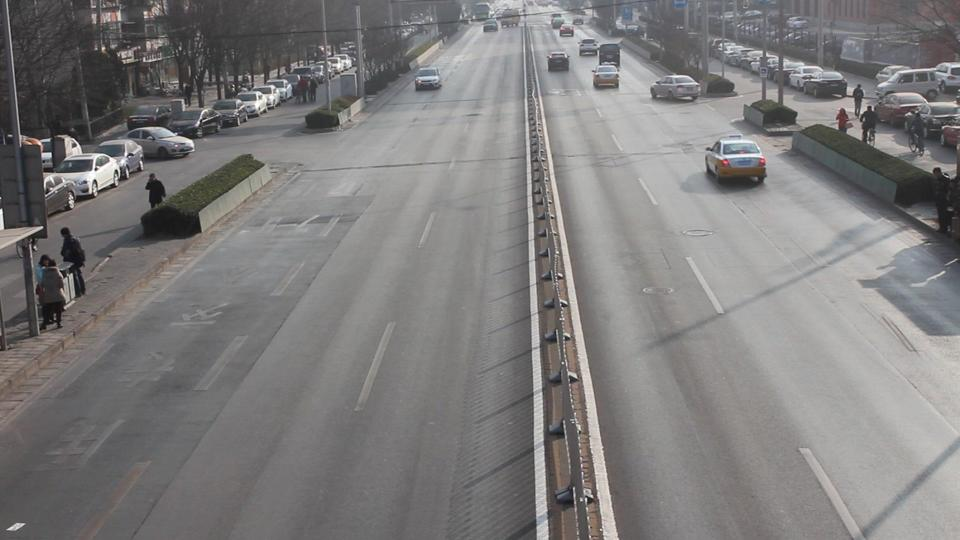Car: (700, 136, 769, 184), (647, 73, 705, 104), (594, 60, 623, 95), (415, 64, 444, 94), (549, 50, 571, 74), (581, 38, 599, 55)
Minivan: (597, 40, 623, 69)
